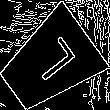L_SW: (22, 35, 77, 90)
